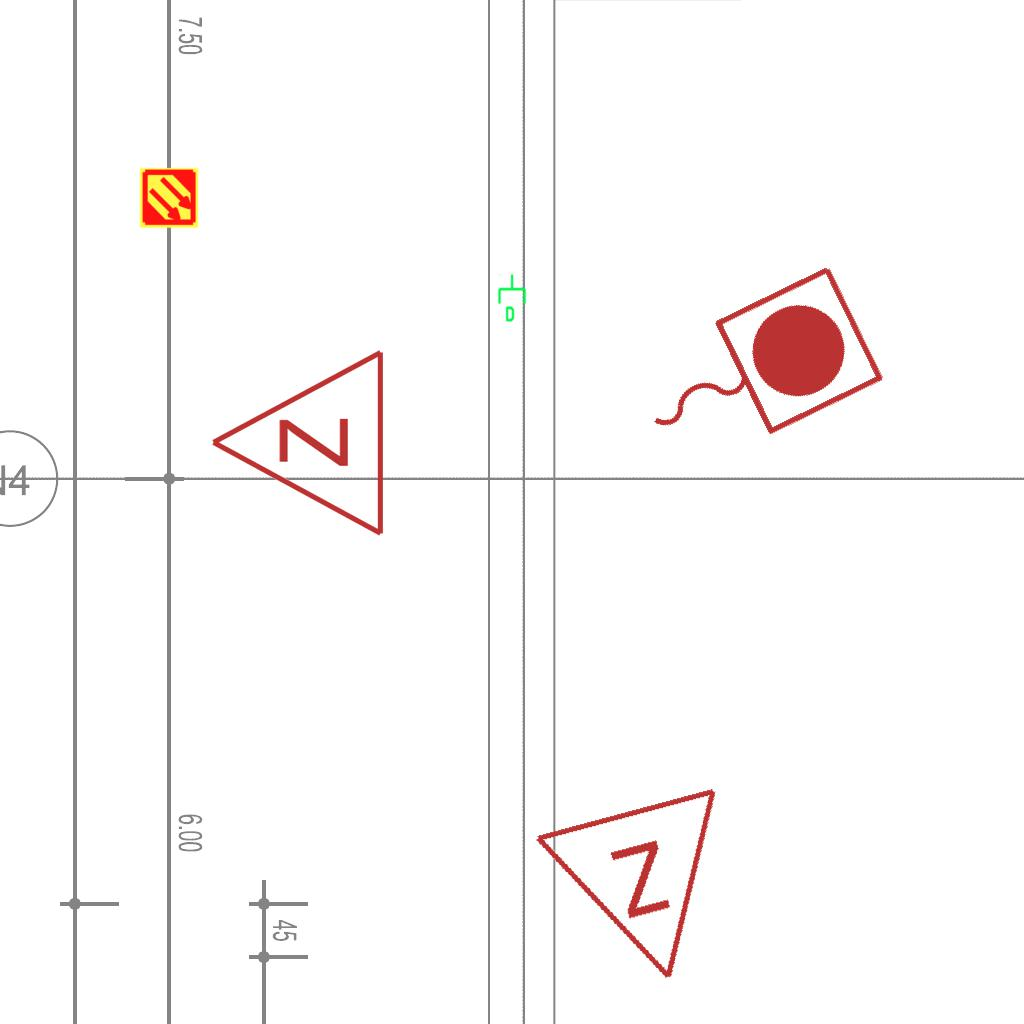ASR_Ansaugrauchmelder: (138, 167, 200, 229)
Datenanschluss_einfach: (496, 273, 530, 323)
Zimmersignalleuchte: (528, 772, 770, 1016), (198, 347, 398, 543)
Zugtaster: (611, 252, 895, 490)
